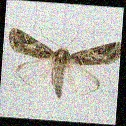Spodoptera litura: (6, 23, 120, 98)
